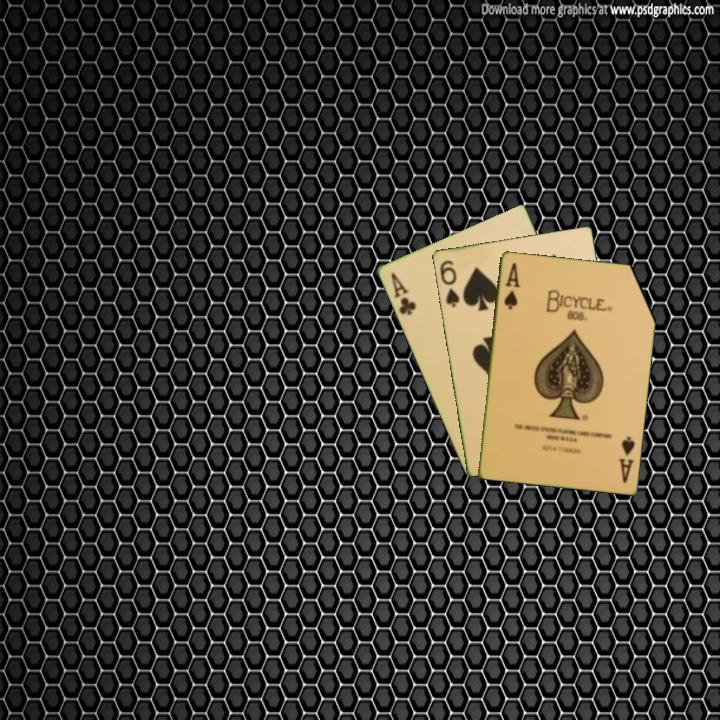6s: (436, 256, 462, 310)
Ac: (387, 269, 419, 318)
As: (615, 432, 638, 485), (500, 259, 522, 312)
